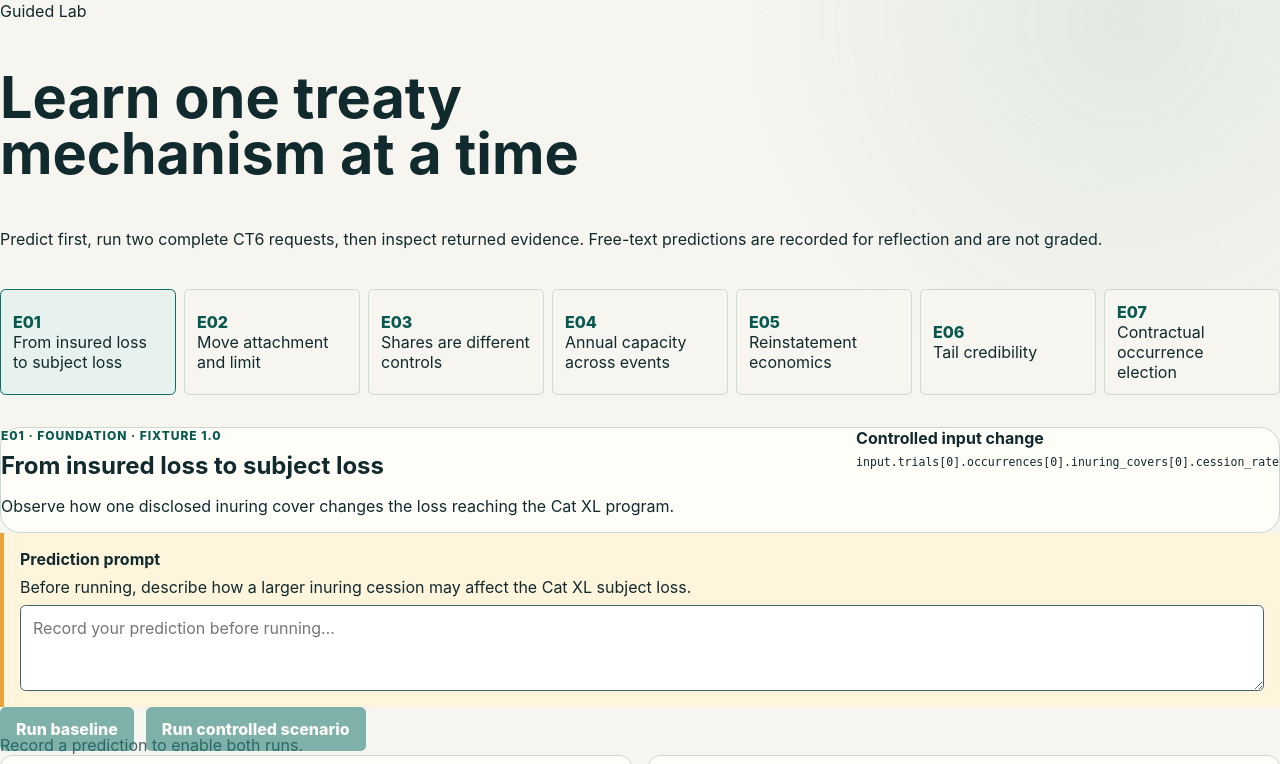
Test: Guided Lab workflow › gates independent runs behind a prediction and then resolves evidence
Expected: the button "Run baseline" is disabled, [0,708,134,752]
Type "I expect the returned subject-loss evidence to respond." into the text box labelled "Prediction prompt" at (642, 648), box [20,606,1264,692]
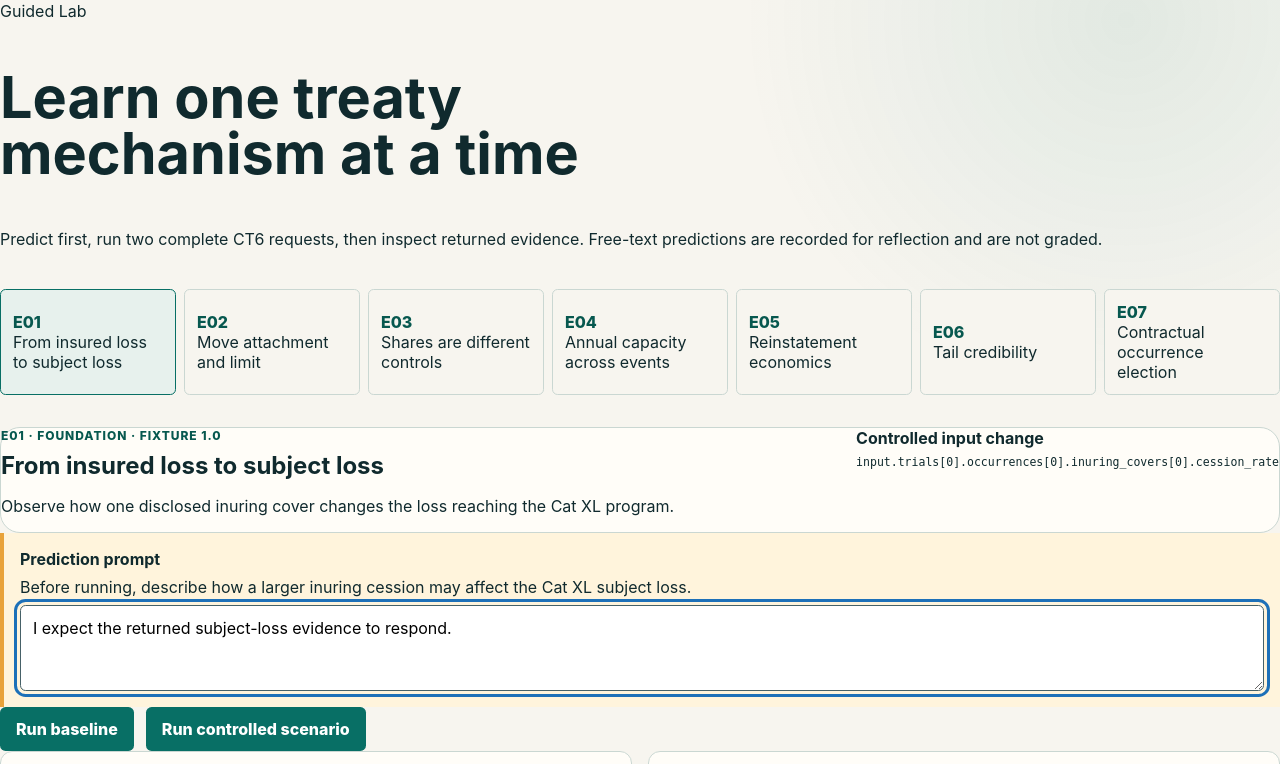
Click the button "Run baseline" at (67, 730), box [0,708,134,752]
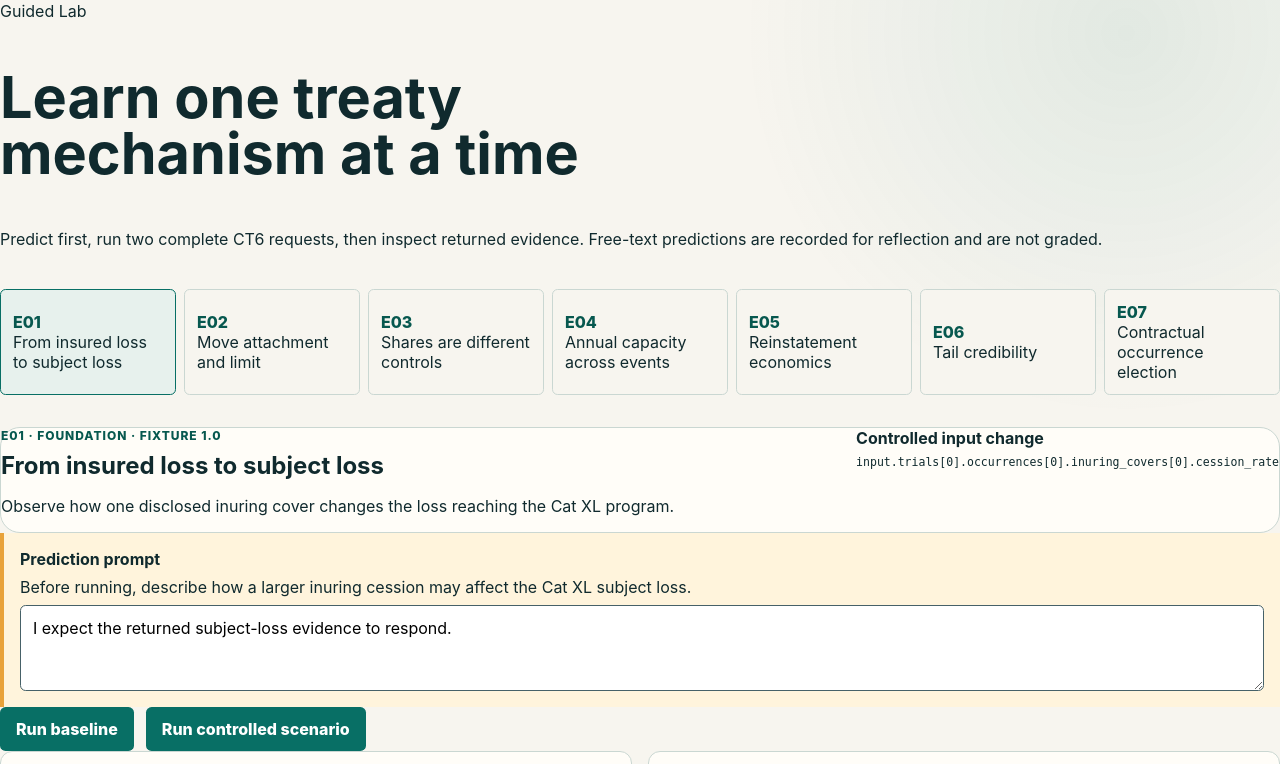
Click the button "Run controlled scenario" at (256, 730), box [146,708,366,752]
(page scrolled)
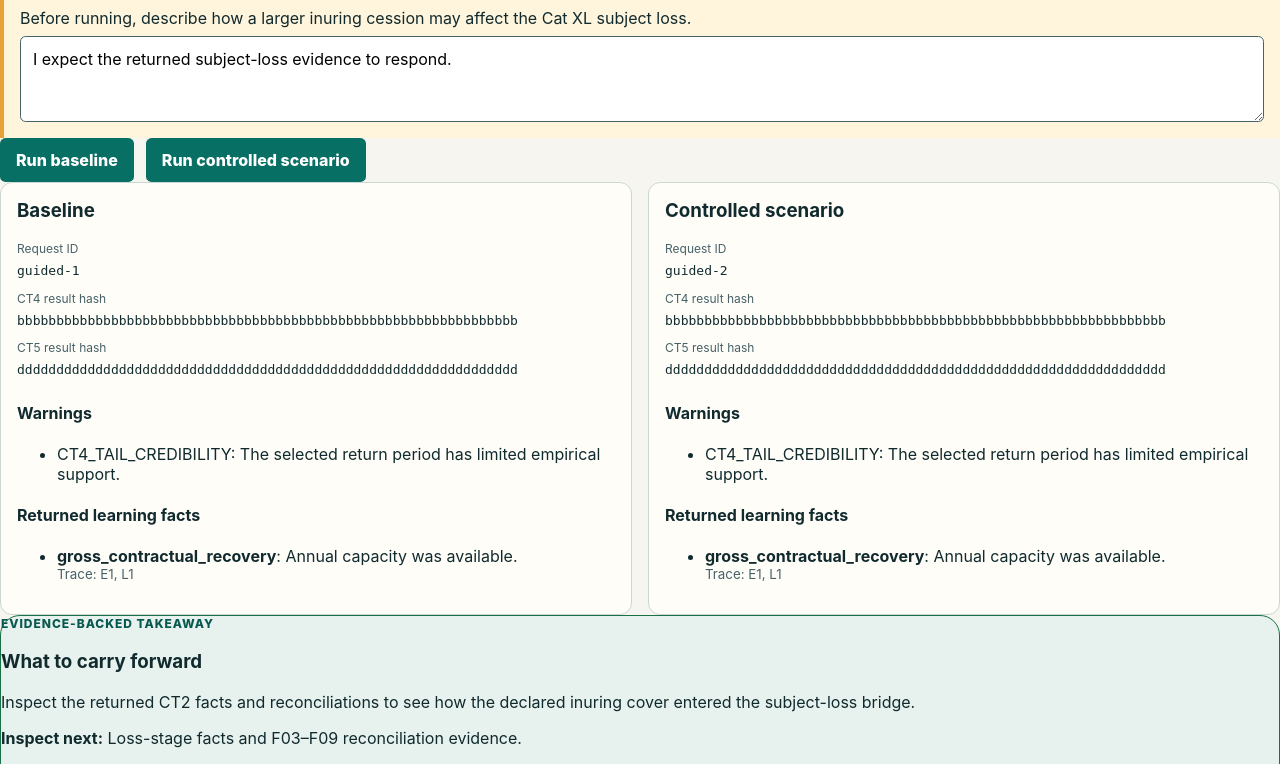
Expected: the heading "What to carry forward" is shown, [1,650,202,673]
Expected: the text "CT5 result hash" is shown 2 times, [17,340,106,355]; [665,340,754,355]
